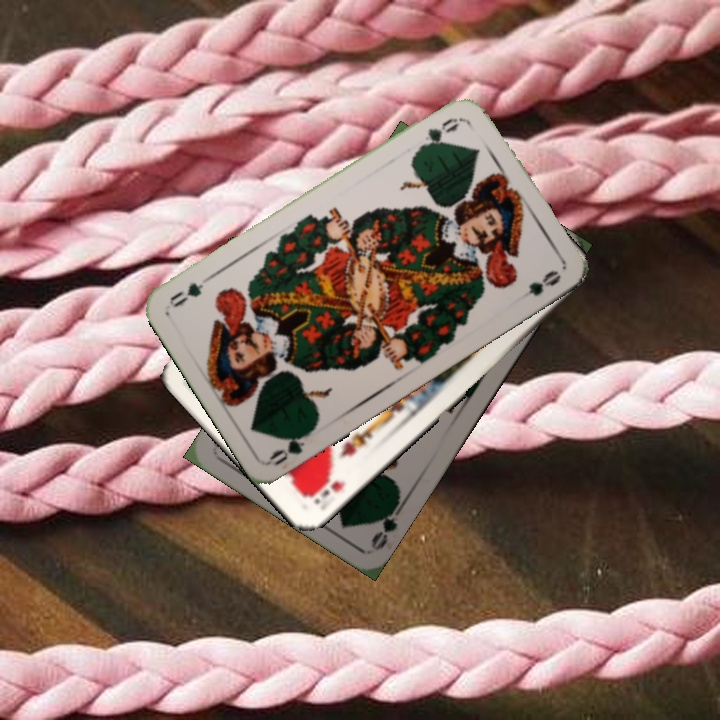GO: (265, 422, 317, 469), (367, 495, 408, 552), (414, 113, 464, 154)
HK: (302, 469, 349, 507)
